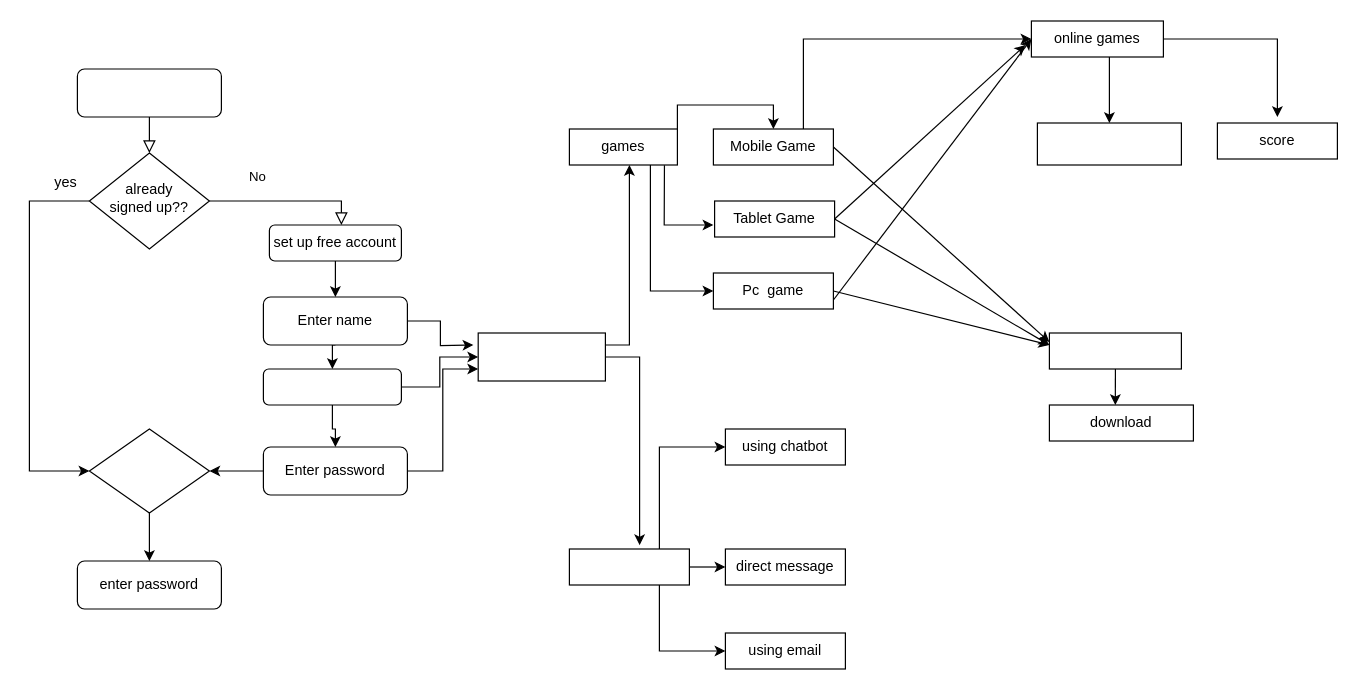
Image size: 1358x690. Some labels were removed from this diagram. Here are the shapes that lost their labels. From the top down, the centre of each, then its label:
the point at 148,92: login or signup
the point at 1108,143: level up or down
the point at 541,356: create a account
the point at 1114,350: ofline games
the point at 331,386: Enter email
the point at 148,470: Enter email addresds
the point at 628,566: contact
